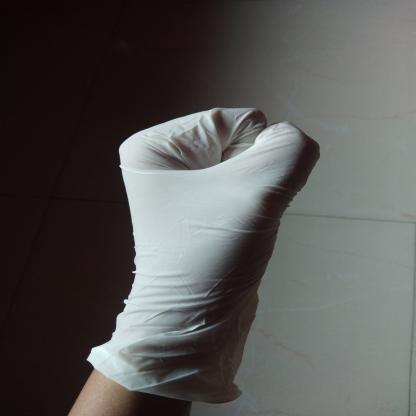gloved_hand: (79, 100, 321, 410)
